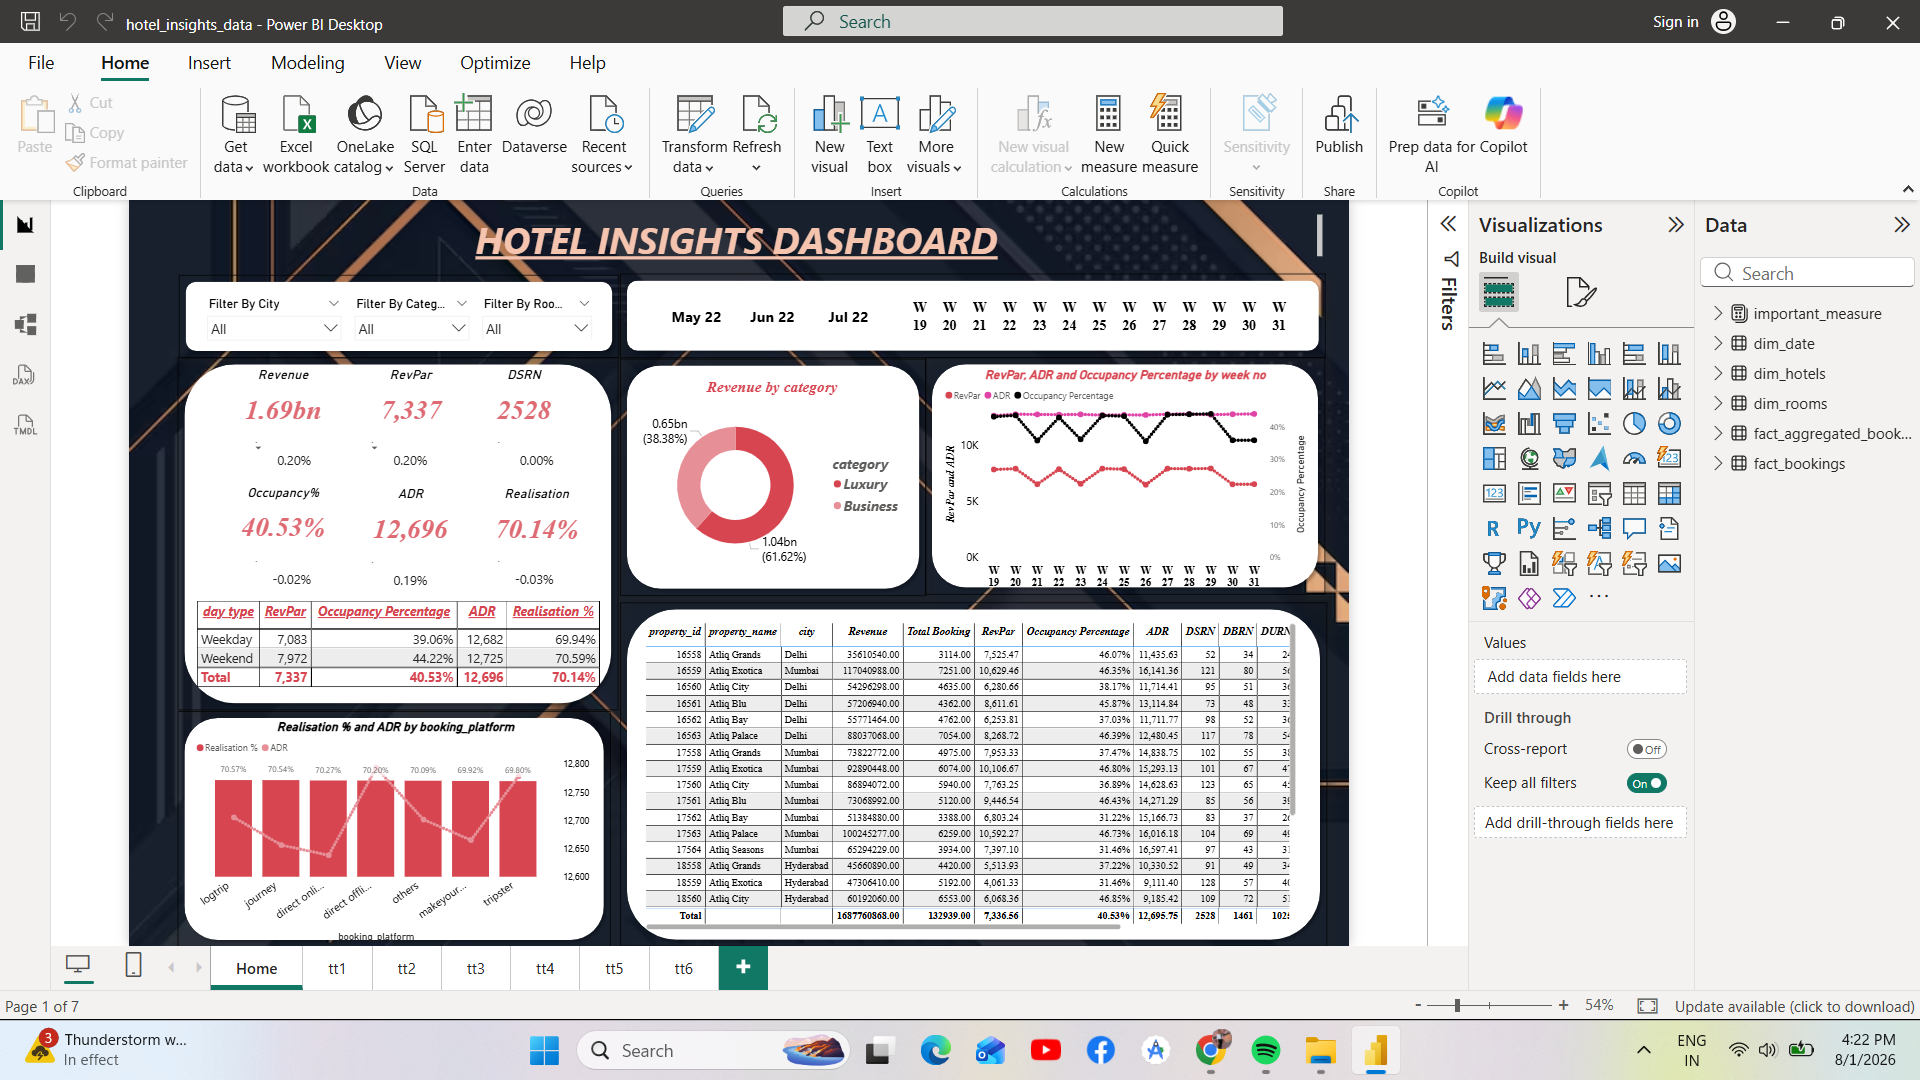

This screenshot's page, from the dashboard's own definition file:
{"tool":"powerbi","page":{"name":"Home","canvas":[1800,1100],"ordinal":0},"visuals":[{"type":"shape","box":[73.3,111.1,648.9,122.2],"z":0},{"type":"textbox","box":[34.6,16.4,1729.7,76.4],"z":1000},{"type":"slicer","fields":{"Values":["dim_hotels.city"]},"box":[104.4,137.8,217.8,73.3],"z":2000},{"type":"slicer","fields":{"Values":["dim_hotels.category"]},"box":[321.9,138.2,189.2,72.8],"z":3000},{"type":"slicer","fields":{"Values":["dim_rooms.room_class"]},"box":[511.1,138.2,181.9,67.3],"z":4000},{"type":"shape","box":[723.9,109.1,1040.3,123.7],"z":5000},{"type":"slicer","fields":{"Values":["dim_date.mmm yy"]},"box":[755.6,126.7,384.4,88.9],"z":6000},{"type":"slicer","fields":{"Values":["dim_date.week no"]},"box":[1118.6,127.3,622,89.1],"z":7000},{"type":"shape","box":[72.8,232.8,649.3,520.2],"z":8000},{"type":"card","title":"Revenue","fields":{"Values":["important_measure.Revenue"]},"box":[149.1,247.4,156.4,98.2],"z":9000},{"type":"card","title":"Occupancy%","fields":{"Values":["important_measure.Occupancy Percentage"]},"box":[154.6,420.1,145.5,96.4],"z":10000},{"type":"card","title":"RevPar","fields":{"Values":["important_measure.RevPar"]},"box":[336.5,247.4,156.4,98.2],"z":11000},{"type":"card","title":"ADR","fields":{"Values":["important_measure.ADR"]},"box":[305.6,422,218.3,98.2],"z":12000},{"type":"card","title":"Realisation","fields":{"Values":["important_measure.Realisation %"]},"box":[492.9,422,218.3,98.2],"z":13000},{"type":"card","title":"DSRN","fields":{"Values":["important_measure.DSRN"]},"box":[511.1,247.4,143.7,98.2],"z":14000},{"type":"tableEx","fields":{"Values":["important_measure.Revenue WOW Change%"]},"box":[174.6,338.3,103.7,69.1],"z":15000},{"type":"tableEx","fields":{"Values":["important_measure.Revpar WOW Change%"]},"box":[347.4,338.3,103.7,69.1],"z":16000},{"type":"tableEx","fields":{"Values":["important_measure.DSRN WOW Change%"]},"box":[532.9,338.3,103.7,69.1],"z":17000},{"type":"tableEx","fields":{"Values":["important_measure.Occupancy WOW Change%"]},"box":[174.6,514.7,103.7,69.1],"z":18000},{"type":"tableEx","fields":{"Values":["important_measure.ADR WOW Change%"]},"box":[347.4,516.5,103.7,69.1],"z":19000},{"type":"tableEx","fields":{"Values":["important_measure.Realisation WOW Change%"]},"box":[532.9,514.7,103.7,69.1],"z":20000},{"type":"tableEx","fields":{"Values":["dim_date.day type","important_measure.RevPar","important_measure.Occupancy Percentage","important_measure.ADR","important_measure.Realisation %"]},"box":[94.6,585.7,607.5,151],"z":21000},{"type":"shape","box":[723.9,234.6,451.1,349.2],"z":22000},{"type":"donutChart","fields":{"Category":["dim_hotels.category"],"Y":["important_measure.Revenue"]},"box":[745.7,263.7,403.8,289.2],"z":23000},{"type":"shape","box":[1174.9,232.8,589.3,349.2],"z":24000},{"type":"lineChart","fields":{"Y":["important_measure.RevPar","important_measure.ADR"],"Y2":["important_measure.Occupancy Percentage"],"Category":["dim_date.week no"]},"box":[1198.6,247.4,542,334.7],"z":25000},{"type":"shape","box":[72.8,753,638.4,347.4],"z":26000},{"type":"lineStackedColumnComboChart","fields":{"Y2":["important_measure.ADR"],"Y":["important_measure.Realisation %"],"Category":["fact_bookings.booking_platform"]},"box":[94.6,767.5,598.4,332.8],"z":27000},{"type":"shape","box":[723.9,592.9,1042.2,507.4],"z":28000},{"type":"tableEx","fields":{"Values":["dim_hotels.property_id","dim_hotels.property_name","dim_hotels.city","important_measure.Revenue","important_measure.Total Booking","important_measure.RevPar","important_measure.Occupancy Percentage","important_measure.ADR","important_measure.DSRN","important_measure.DBRN","important_measure.DURN","important_measure.Realisation %"]},"box":[754.8,618.4,969.4,462],"z":29000}]}

Visuals, with their boxes on the page's 1800x1100 design canvas (x1, y1, x2, y2). These are canvas units, not pixel positions in the 1920x1080 screenshot, which may show the page scaled, cropped or inside an application window:
shape: x1=73 y1=111 x2=722 y2=233
textbox: x1=35 y1=16 x2=1764 y2=93
slicer - dim_hotels.city: x1=104 y1=138 x2=322 y2=211
slicer - dim_hotels.category: x1=322 y1=138 x2=511 y2=211
slicer - dim_rooms.room_class: x1=511 y1=138 x2=693 y2=206
shape: x1=724 y1=109 x2=1764 y2=233
slicer - dim_date.mmm yy: x1=756 y1=127 x2=1140 y2=216
slicer - dim_date.week no: x1=1119 y1=127 x2=1741 y2=216
shape: x1=73 y1=233 x2=722 y2=753
"Revenue" card: x1=149 y1=247 x2=306 y2=346
"Occupancy%" card: x1=155 y1=420 x2=300 y2=516
"RevPar" card: x1=336 y1=247 x2=493 y2=346
"ADR" card: x1=306 y1=422 x2=524 y2=520
"Realisation" card: x1=493 y1=422 x2=711 y2=520
"DSRN" card: x1=511 y1=247 x2=655 y2=346
tableEx - important_measure.Revenue WOW Change%: x1=175 y1=338 x2=278 y2=407
tableEx - important_measure.Revpar WOW Change%: x1=347 y1=338 x2=451 y2=407
tableEx - important_measure.DSRN WOW Change%: x1=533 y1=338 x2=637 y2=407
tableEx - important_measure.Occupancy WOW Change%: x1=175 y1=515 x2=278 y2=584
tableEx - important_measure.ADR WOW Change%: x1=347 y1=516 x2=451 y2=586
tableEx - important_measure.Realisation WOW Change%: x1=533 y1=515 x2=637 y2=584
tableEx - dim_date.day type x important_measure.RevPar: x1=95 y1=586 x2=702 y2=737
shape: x1=724 y1=235 x2=1175 y2=584
donutChart - dim_hotels.category x important_measure.Revenue: x1=746 y1=264 x2=1150 y2=553
shape: x1=1175 y1=233 x2=1764 y2=582
lineChart - important_measure.RevPar x important_measure.ADR: x1=1199 y1=247 x2=1741 y2=582
shape: x1=73 y1=753 x2=711 y2=1100
lineStackedColumnComboChart - important_measure.ADR x important_measure.Realisation %: x1=95 y1=768 x2=693 y2=1100
shape: x1=724 y1=593 x2=1766 y2=1100
tableEx - dim_hotels.property_id x dim_hotels.property_name: x1=755 y1=618 x2=1724 y2=1080
